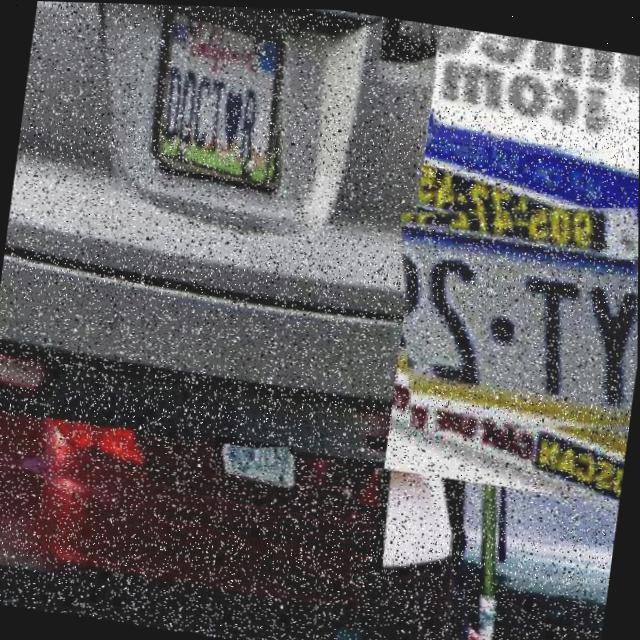LicensePlate: (381, 178, 639, 450), (424, 22, 640, 168), (132, 3, 299, 183), (215, 444, 290, 473)
